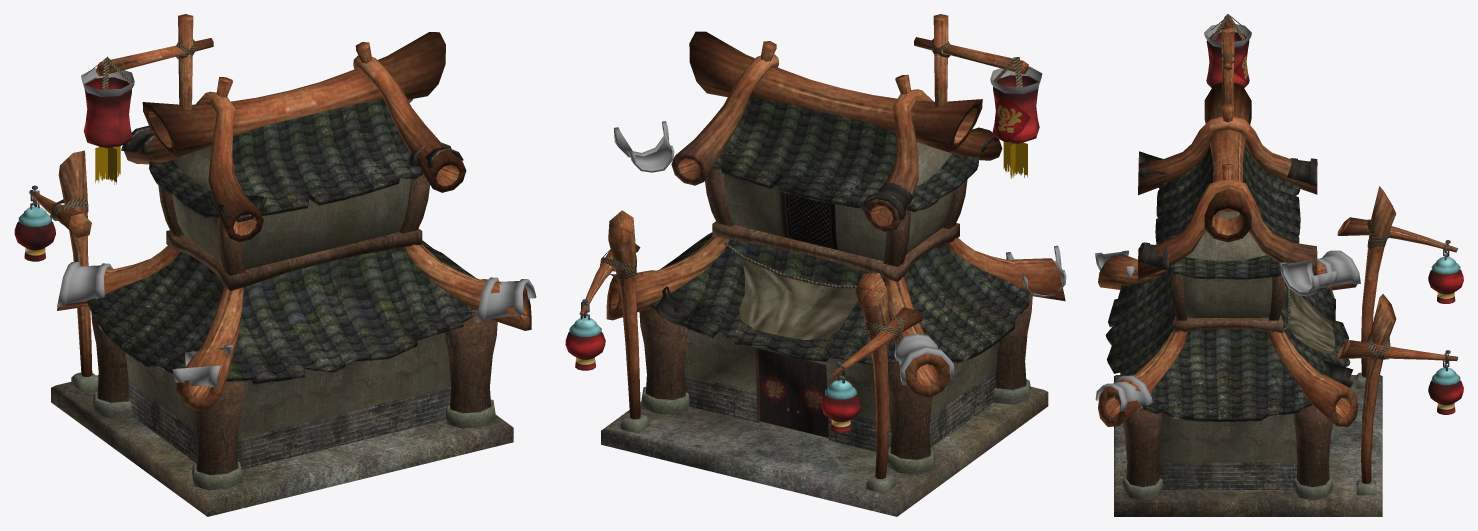
Rendered from mSmallHouse3.FBX.
The picture shows the model from 3 angles, left to right: view 1: azimuth 30°, elevation 25°; view 2: azimuth 150°, elevation 25°; view 3: azimuth 270°, elevation 25°; orthographic projection. The views are drawn at different scales.
Parts seen in each view (by area): view 1: pCube1_A_annatto_house_group_cryExportNode_A_annatto_house, headusOBJexport, 04, object 5, 06, 对象02, 对象03; view 2: pCube1_A_annatto_house_group_cryExportNode_A_annatto_house, headusOBJexport, 03, object 5, 01, 对象02, 02, 对象03; view 3: pCube1_A_annatto_house_group_cryExportNode_A_annatto_house, headusOBJexport, 03, 04, object 5, 01, 05, 02, 对象03.
Part boxes in pixels (x1=…): pCube1_A_annatto_house_group_cryExportNode_A_annatto_house: x1=14, y1=14, x2=531, y2=490; headusOBJexport: x1=51, y1=375, x2=513, y2=516; 04: x1=476, y1=277, x2=536, y2=322; object 5: x1=57, y1=262, x2=112, y2=306; 06: x1=172, y1=344, x2=232, y2=388; 对象02: x1=95, y1=146, x2=120, y2=184; 对象03: x1=81, y1=68, x2=134, y2=96; pCube1_A_annatto_house_group_cryExportNode_A_annatto_house: x1=565, y1=14, x2=1065, y2=493; headusOBJexport: x1=601, y1=241, x2=1048, y2=516; 03: x1=614, y1=121, x2=674, y2=172; object 5: x1=894, y1=333, x2=954, y2=385; 01: x1=861, y1=182, x2=913, y2=219; 对象02: x1=1003, y1=142, x2=1027, y2=178; 02: x1=655, y1=286, x2=707, y2=323; 对象03: x1=990, y1=66, x2=1042, y2=94; pCube1_A_annatto_house_group_cryExportNode_A_annatto_house: x1=1098, y1=14, x2=1463, y2=500; headusOBJexport: x1=1114, y1=286, x2=1382, y2=516; 03: x1=1279, y1=260, x2=1337, y2=295; 04: x1=1095, y1=375, x2=1152, y2=411; object 5: x1=1317, y1=250, x2=1360, y2=286; 01: x1=1287, y1=158, x2=1317, y2=186; 05: x1=1139, y1=242, x2=1169, y2=270; 02: x1=1323, y1=360, x2=1353, y2=387; 对象03: x1=1204, y1=24, x2=1251, y2=47.
Bounding box in the file's own units: 1862 × 2004 × 1774.
Materials: 6 (3 with a texture image).
